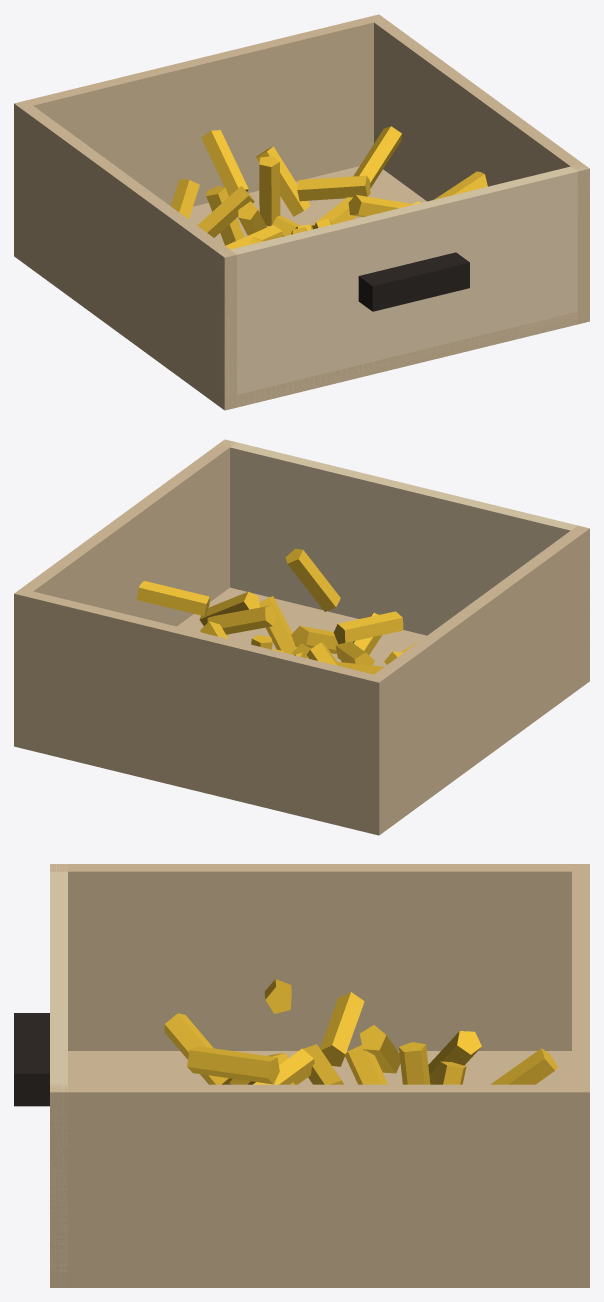
The model's file is gold_screw_drawer.glb.
The picture shows the model from 3 angles, top to bottom: view 1: azimuth 30°, elevation 25°; view 2: azimuth 150°, elevation 25°; view 3: azimuth 270°, elevation 25°; orthographic projection. The views are drawn at different scales.
Visible parts, largest first — view 1: side_drawer_card, front_drawer_front, screws_gold, bottom_drawer_card, pull_drawer_pull; view 2: side_drawer_card, front_drawer_front, bottom_drawer_card, screws_gold; view 3: side_drawer_card, bottom_drawer_card, screws_gold, front_drawer_front, pull_drawer_pull.
Boxes of the visible parts, box(x1,y1,x2,y2) form: side_drawer_card: box(14, 14, 589, 409); front_drawer_front: box(217, 165, 588, 409); screws_gold: box(171, 126, 487, 249); bottom_drawer_card: box(14, 166, 589, 410); pull_drawer_pull: box(358, 252, 469, 311); side_drawer_card: box(14, 439, 589, 835); front_drawer_front: box(221, 440, 589, 635); bottom_drawer_card: box(14, 587, 589, 835); screws_gold: box(136, 548, 418, 674); side_drawer_card: box(50, 864, 589, 1287); bottom_drawer_card: box(50, 1051, 589, 1287); screws_gold: box(164, 979, 557, 1084); front_drawer_front: box(50, 864, 67, 1287); pull_drawer_pull: box(14, 1013, 49, 1106).
Bounding box in the file's own units: 0.3 × 0.12 × 0.32.
